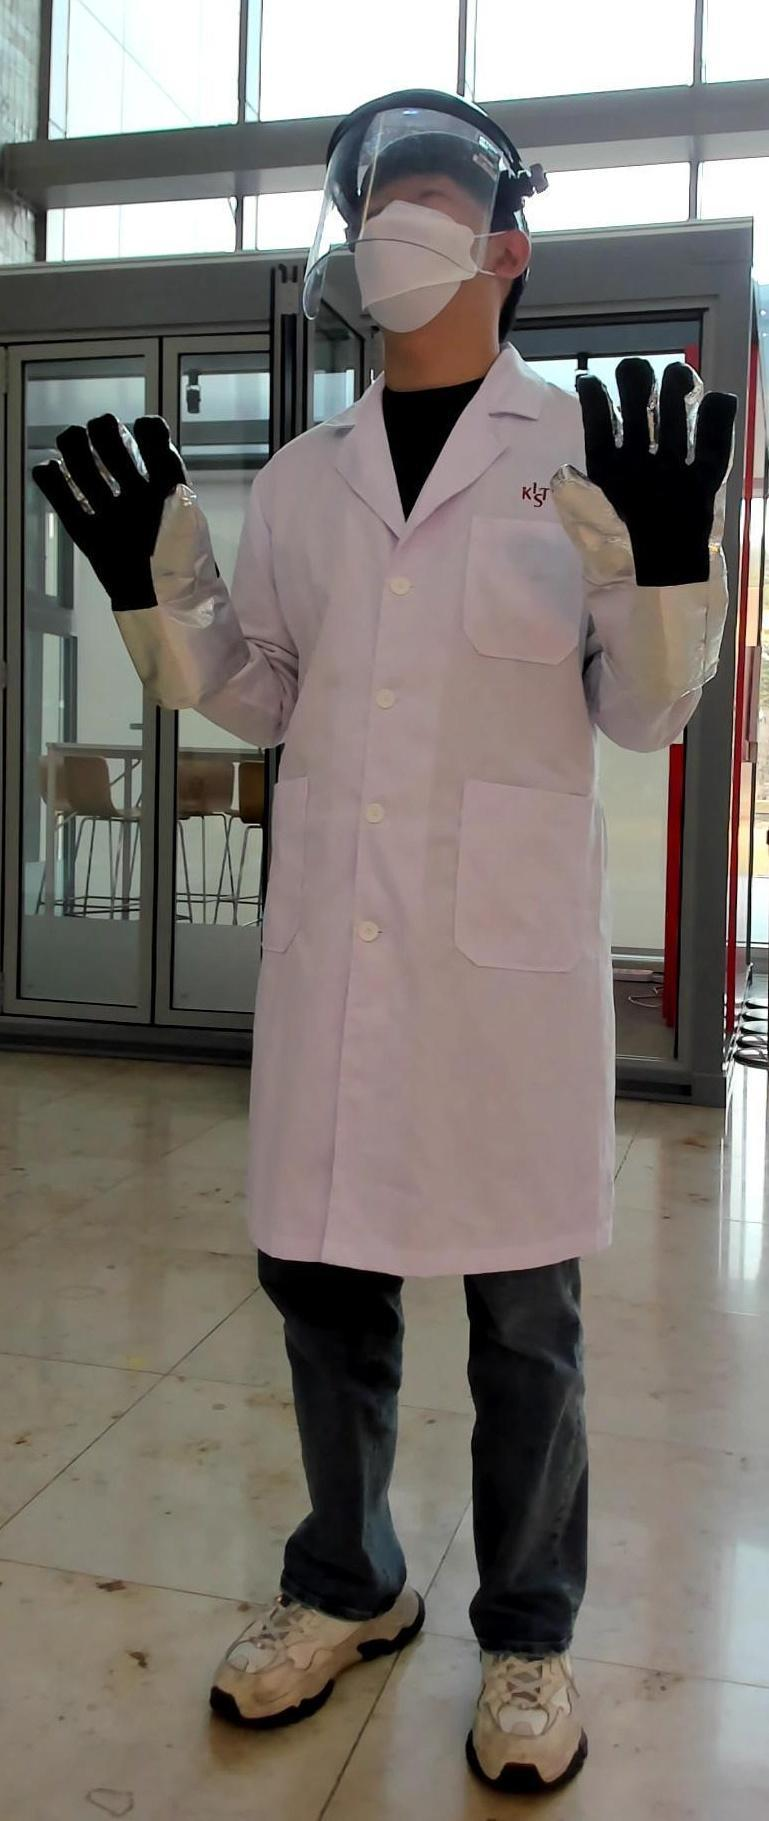lab_coat: (251, 426, 585, 1262)
